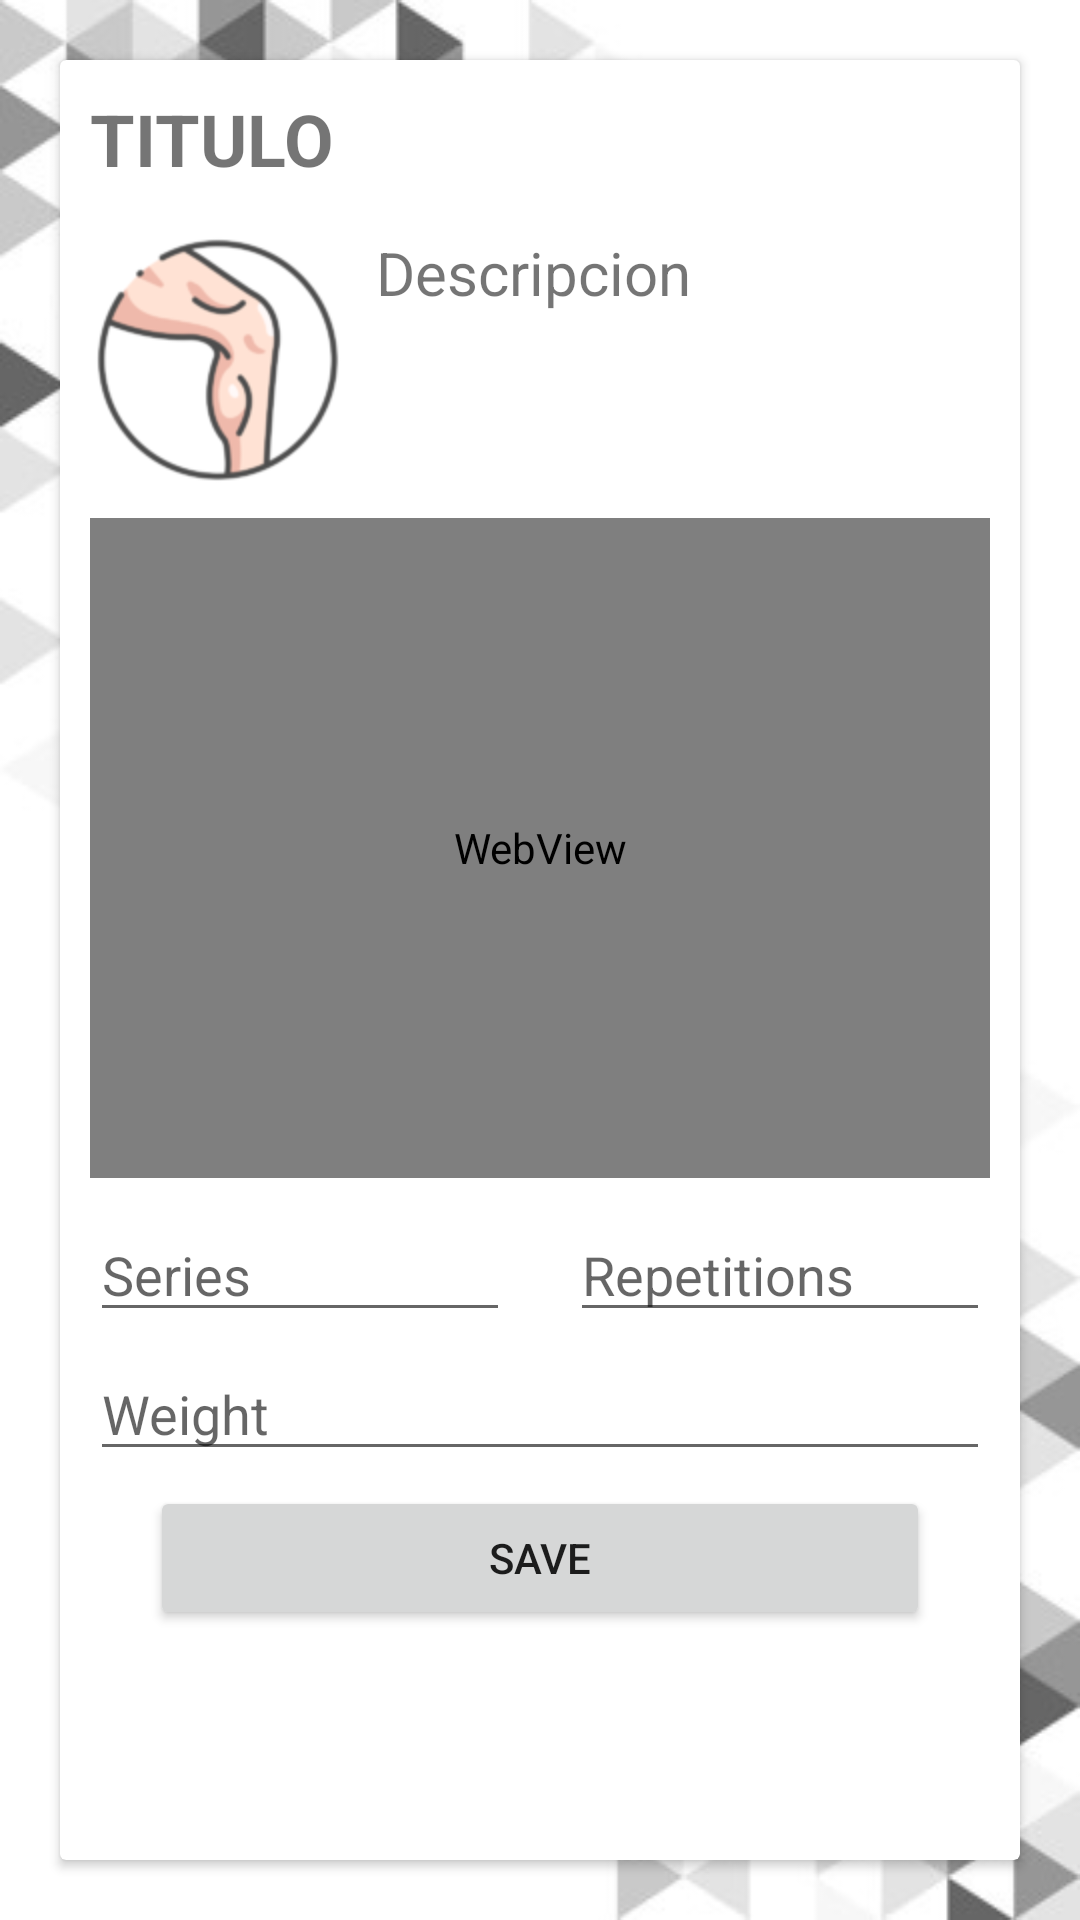

Icon bounding boxes for this 1080 × 1920 phone screenshot, format {"x1": x1, "y1": y1, "x2": x2, "y2": y2}:
leg muscle body: {"x1": 97, "y1": 239, "x2": 339, "y2": 481}
